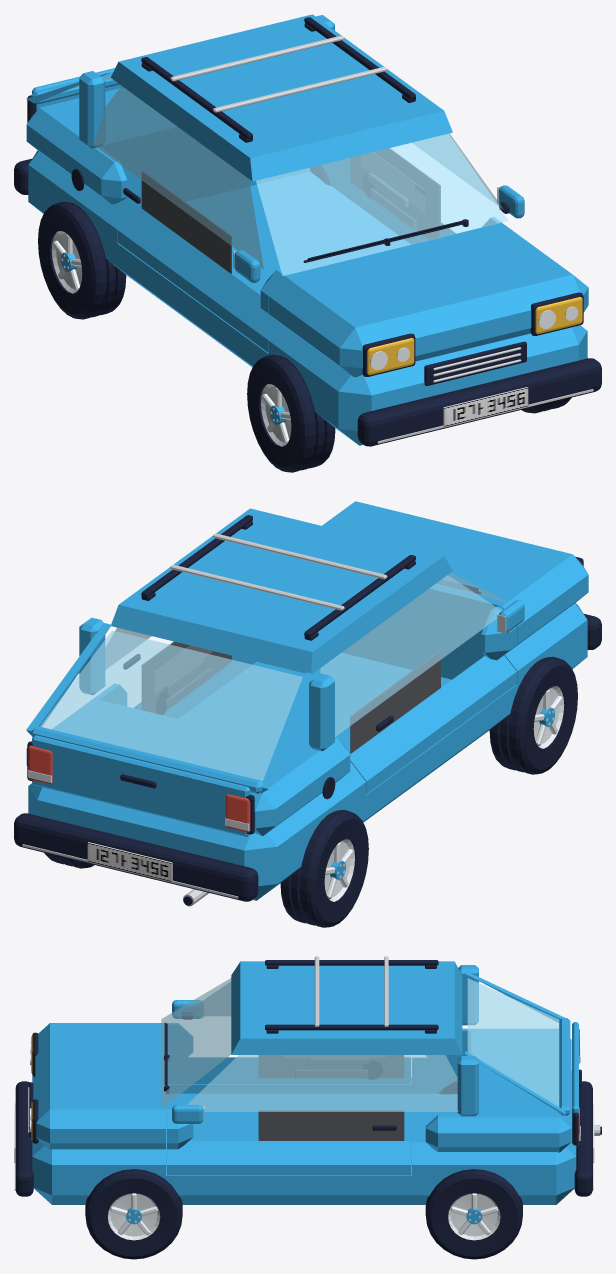
File: V01_hatchback_v3.glb
The picture shows the model from 3 angles, top to bottom: view 1: azimuth 30°, elevation 25°; view 2: azimuth 150°, elevation 25°; view 3: azimuth 270°, elevation 25°; orthographic projection. The views are drawn at different scales.
Visible parts, largest first — view 1: Body, Glass, Static, Door_R, Wheel_FR, Wheel_RR, DoorDetail_L, DoorDetail_R, Trunk, Door_L, Mirror_L, Mirror_R; view 2: Body, Trunk, Static, Glass, Door_R, Wheel_RR, Wheel_FR, DoorDetail_L, DoorDetail_R, Mirror_R; view 3: Body, Glass, Trunk, Door_L, Static, Wheel_FL, Wheel_RL, DoorDetail_L, Door_R, DoorDetail_R, Mirror_L, Mirror_R.
Boxes of the visible parts, <box> form: Body: <box>26,14,588,445</box>; Glass: <box>93,86,508,275</box>; Static: <box>14,17,601,446</box>; Door_R: <box>117,205,286,352</box>; Wheel_FR: <box>247,354,335,472</box>; Wheel_RR: <box>38,201,126,319</box>; DoorDetail_L: <box>350,148,440,239</box>; DoorDetail_R: <box>123,171,231,273</box>; Trunk: <box>26,68,122,110</box>; Door_L: <box>347,158,500,241</box>; Mirror_L: <box>497,185,524,218</box>; Mirror_R: <box>233,250,260,282</box>; Body: <box>26,501,588,900</box>; Trunk: <box>26,623,313,836</box>; Static: <box>14,515,601,906</box>; Glass: <box>105,572,507,736</box>; Door_R: <box>350,606,516,793</box>; Wheel_RR: <box>280,810,368,927</box>; Wheel_FR: <box>489,656,577,774</box>; DoorDetail_L: <box>123,641,231,714</box>; DoorDetail_R: <box>350,651,440,753</box>; Mirror_R: <box>497,600,524,633</box>; Body: <box>32,961,576,1204</box>; Glass: <box>161,978,458,1111</box>; Trunk: <box>465,971,581,1145</box>; Door_L: <box>167,1108,410,1175</box>; Static: <box>14,956,601,1196</box>; Wheel_FL: <box>85,1169,182,1259</box>; Wheel_RL: <box>425,1169,522,1259</box>; DoorDetail_L: <box>258,1110,404,1140</box>; Door_R: <box>167,1023,410,1083</box>; DoorDetail_R: <box>259,1055,403,1079</box>; Mirror_L: <box>172,1105,204,1123</box>; Mirror_R: <box>172,1000,203,1019</box>.
Size of what is drawn, in the model's own units: 1.72 by 1.57 by 3.87.
3 materials, 1 textured.
